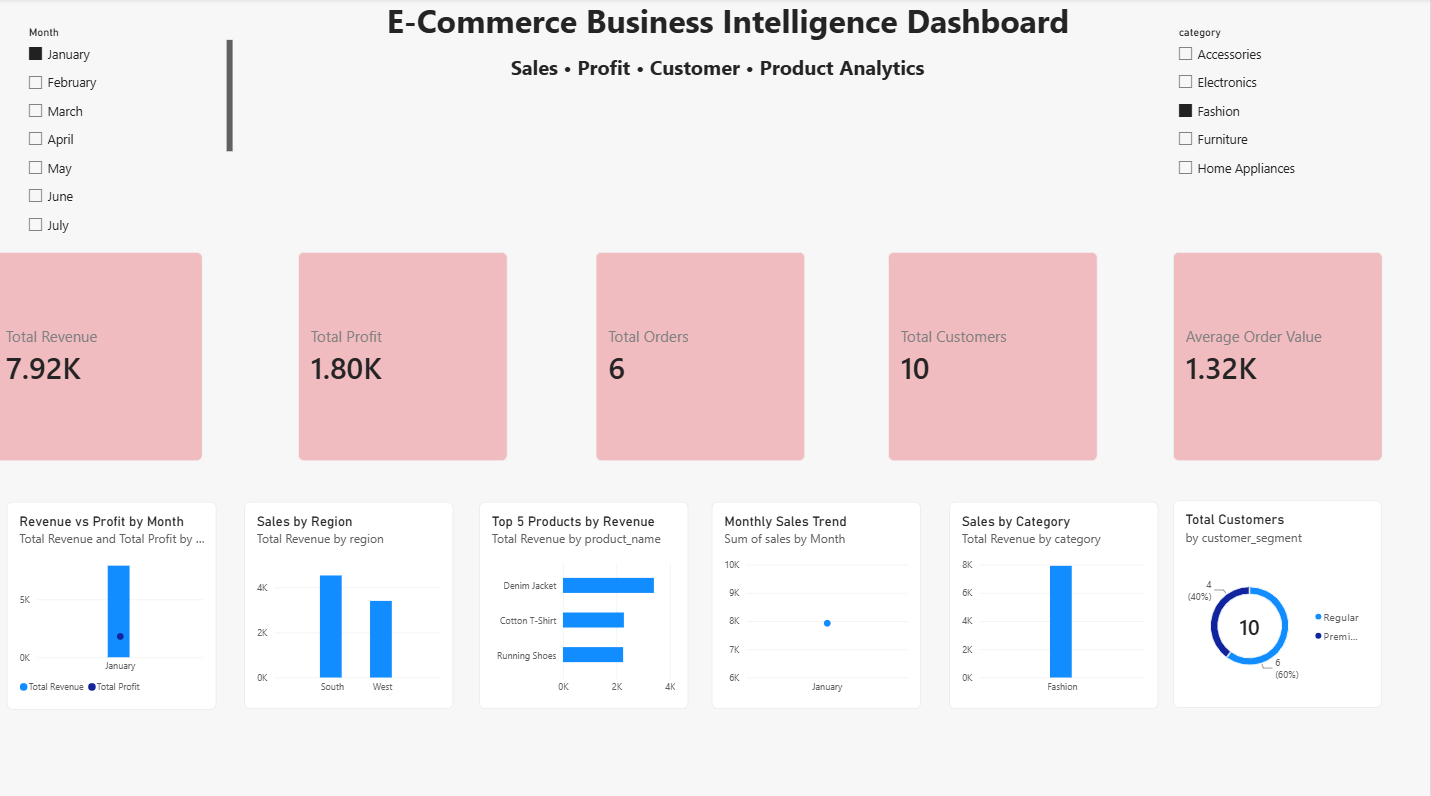

What the dashboard file says about the page in this screenshot:
{"tool":"powerbi","page":{"name":"Executive Overview","canvas":[1920,1080],"ordinal":0},"visuals":[{"type":"cardVisual","fields":{"Data":["ecommerce_analytics order_details.Total Revenue"]},"box":[0,338.7,280,280],"z":0},{"type":"cardVisual","fields":{"Data":["ecommerce_analytics order_details.Total Profit"]},"box":[406.8,338.7,280,280],"z":1},{"type":"cardVisual","fields":{"Data":["ecommerce_analytics orders.Total Orders"]},"box":[804.3,338.7,280,280],"z":2},{"type":"cardVisual","fields":{"Data":["ecommerce_analytics customers.Total Customers"]},"box":[1196.3,338.7,280,280],"z":3},{"type":"cardVisual","fields":{"Data":["ecommerce_analytics orders.Average Order Value"]},"box":[1575.5,338.7,280,280],"z":4},{"type":"lineChart","title":"Monthly Sales Trend","fields":{"Category":["ecommerce_analytics orders.order_date.Variation.Date Hierarchy.Month"],"Y":["Sum(ecommerce_analytics order_details.sales)"]},"box":[960.7,673.6,279,277],"z":5},{"type":"lineClusteredColumnComboChart","title":"Revenue vs Profit by Month","fields":{"Category":["ecommerce_analytics orders.order_date.Variation.Date Hierarchy.Month"],"Y":["ecommerce_analytics order_details.Total Revenue"],"Y2":["ecommerce_analytics order_details.Total Profit"]},"box":[18.4,673.6,279.8,277.9],"z":6},{"type":"clusteredColumnChart","title":"Sales by Category","fields":{"Category":["ecommerce_analytics products.category"],"Y":["ecommerce_analytics order_details.Total Revenue"]},"box":[1277.3,673.6,279,277],"z":7},{"type":"clusteredColumnChart","title":"Sales by Region","fields":{"Category":["ecommerce_analytics orders.region"],"Y":["ecommerce_analytics order_details.Total Revenue"]},"box":[335,673.6,279,277],"z":8},{"type":"clusteredBarChart","title":"Top 5 Products by Revenue","fields":{"Category":["ecommerce_analytics products.product_name"],"Y":["ecommerce_analytics order_details.Total Revenue"]},"box":[649.7,673.6,279,277],"z":9},{"type":"donutChart","fields":{"Category":["ecommerce_analytics customers.customer_segment"],"Y":["ecommerce_analytics customers.Total Customers"]},"box":[1575.5,671.8,279,277],"z":10},{"type":"slicer","fields":{"Values":["ecommerce_analytics orders.order_date.Variation.Date Hierarchy.Month"]},"box":[40.5,36.8,280,280],"z":11},{"type":"slicer","fields":{"Values":["ecommerce_analytics products.category"]},"box":[1575.5,36.8,280,280],"z":12},{"type":"textbox","box":[0,0,1919.6,73.6],"z":13},{"type":"textbox","box":[0,73.6,1919.6,66.3],"z":14}]}

Visuals, with their boxes in screenshot pixels (x1, y1, x2, y2), scaled from the page's 1920x1080 canvas onto the 1431x796 screenshot:
cardVisual - ecommerce_analytics order_details.Total Revenue: BBox(0, 250, 209, 456)
cardVisual - ecommerce_analytics order_details.Total Profit: BBox(303, 250, 512, 456)
cardVisual - ecommerce_analytics orders.Total Orders: BBox(599, 250, 808, 456)
cardVisual - ecommerce_analytics customers.Total Customers: BBox(892, 250, 1100, 456)
cardVisual - ecommerce_analytics orders.Average Order Value: BBox(1174, 250, 1383, 456)
"Monthly Sales Trend" lineChart: BBox(716, 496, 924, 701)
"Revenue vs Profit by Month" lineClusteredColumnComboChart: BBox(14, 496, 222, 701)
"Sales by Category" clusteredColumnChart: BBox(952, 496, 1160, 701)
"Sales by Region" clusteredColumnChart: BBox(250, 496, 458, 701)
"Top 5 Products by Revenue" clusteredBarChart: BBox(484, 496, 692, 701)
donutChart - ecommerce_analytics customers.customer_segment x ecommerce_analytics customers.Total Customers: BBox(1174, 495, 1382, 699)
slicer - ecommerce_analytics orders.order_date.Variation.Date Hierarchy.Month: BBox(30, 27, 239, 233)
slicer - ecommerce_analytics products.category: BBox(1174, 27, 1383, 233)
textbox: BBox(0, 0, 1430, 54)
textbox: BBox(0, 54, 1430, 103)
